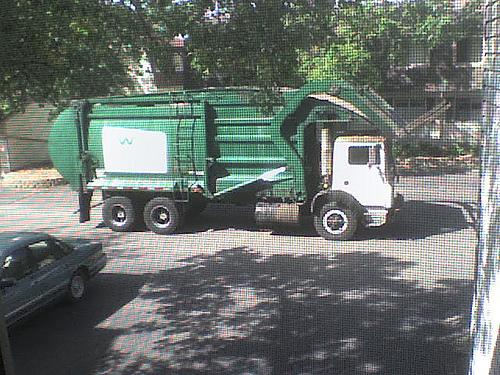truck: (47, 75, 417, 242)
